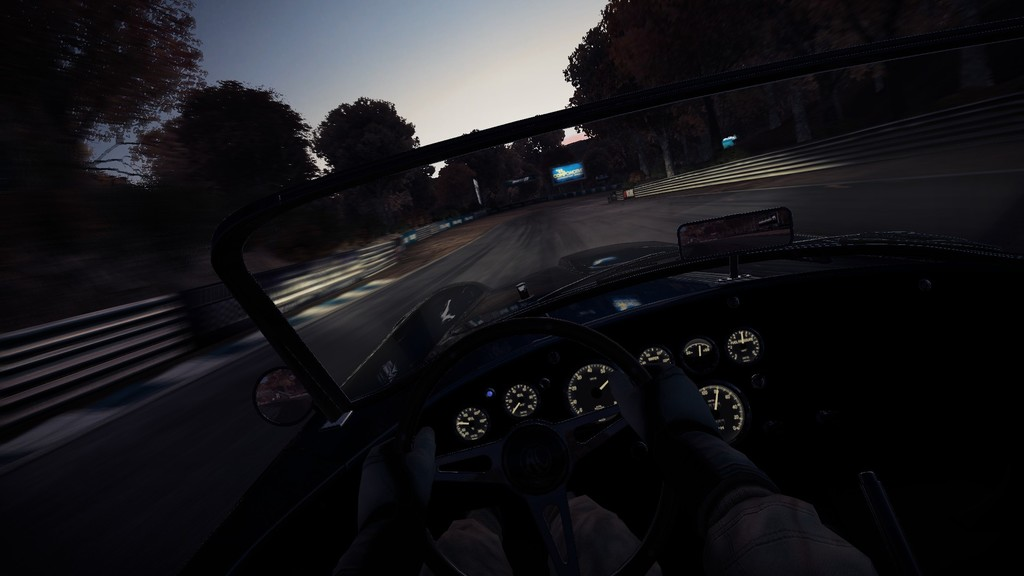Car: (207, 14, 1023, 575)
